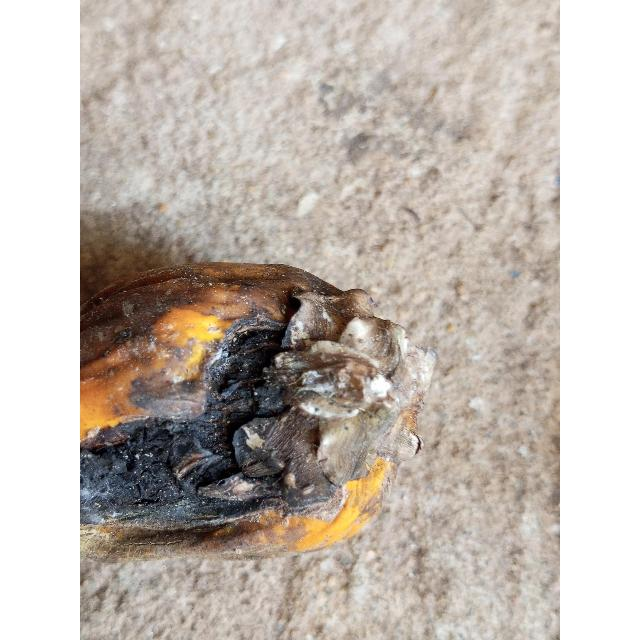damaged: (80, 263, 435, 551)
